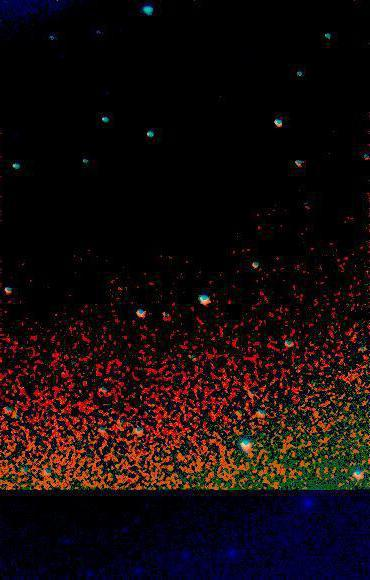star: (245, 214, 275, 244)
